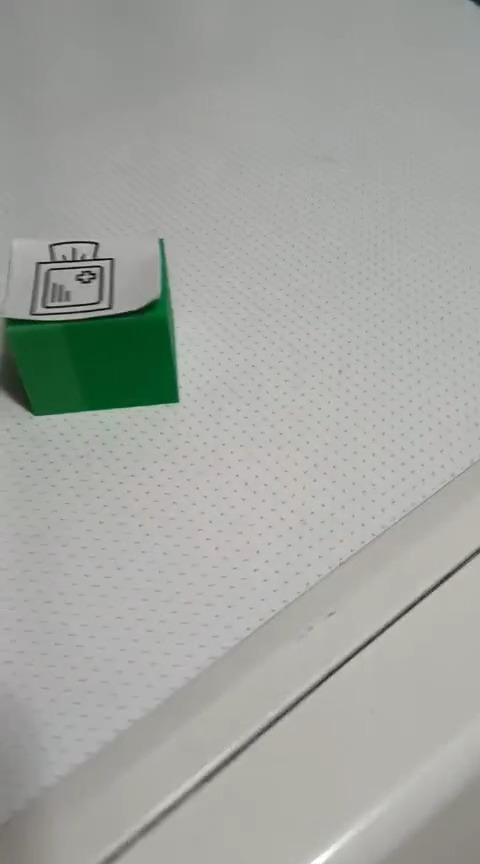Gauze: (1, 232, 180, 416)
